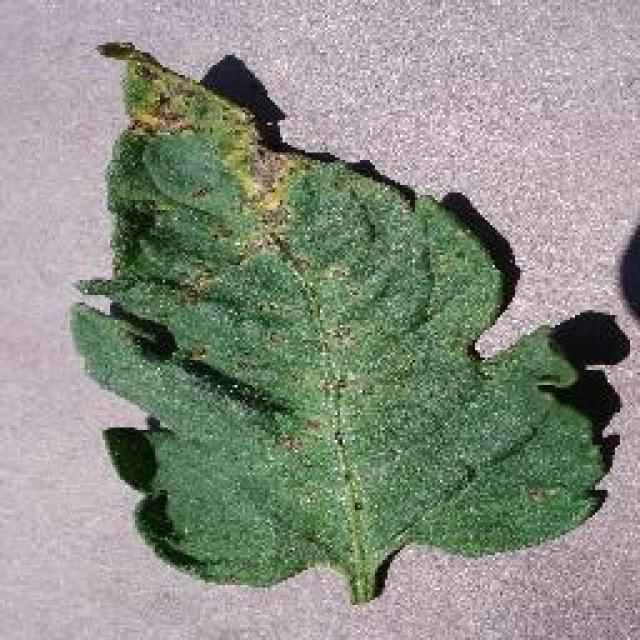Tomato target spot leaf: (69, 40, 604, 582)
